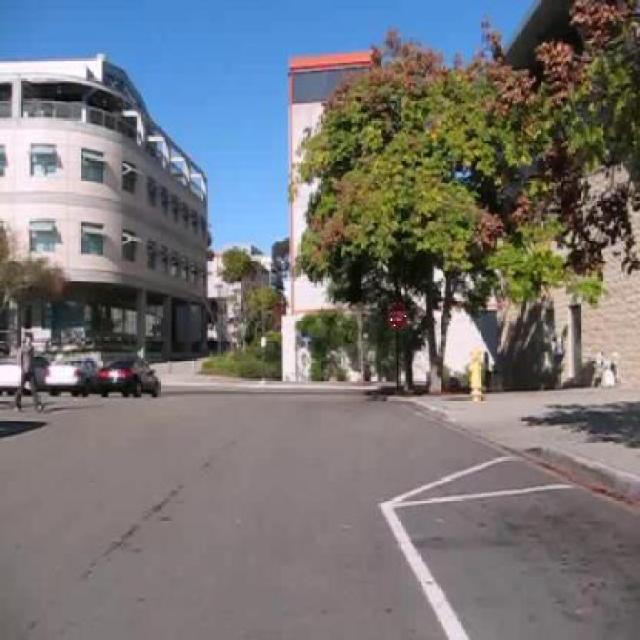stop: (386, 302, 408, 331)
